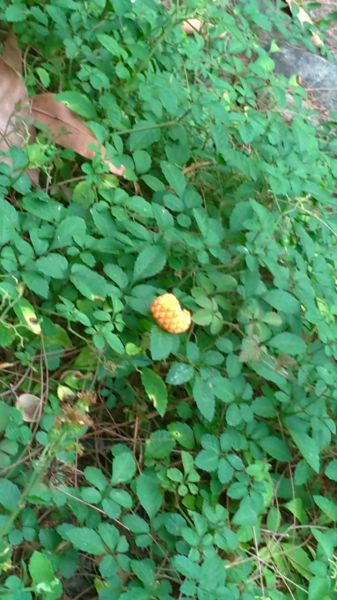eggs: (147, 289, 195, 337)
